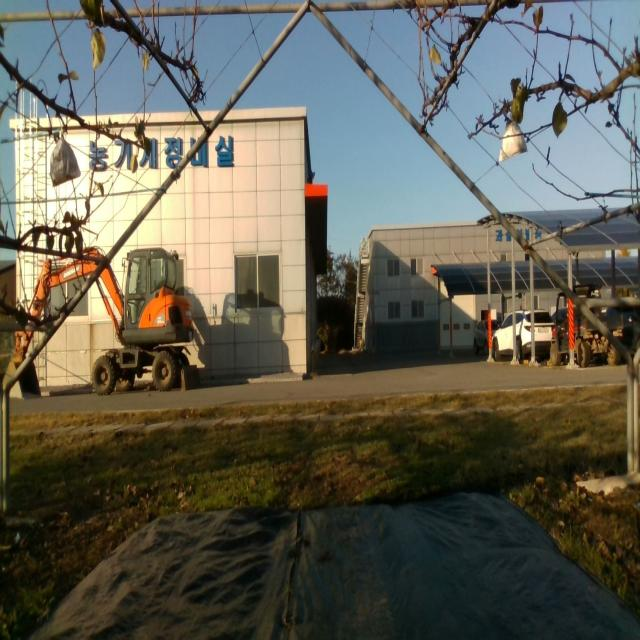pearbags: (50, 129, 80, 187), (497, 121, 528, 164)
